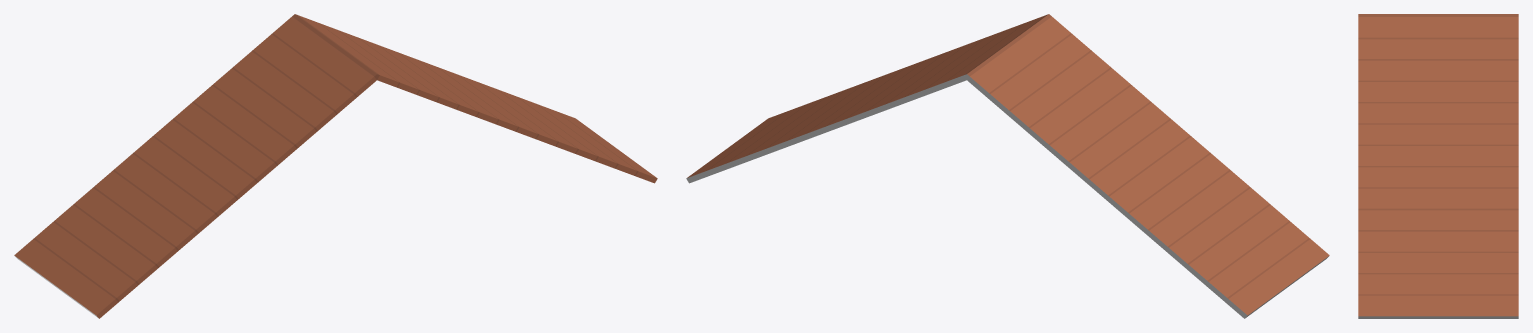
The model's file is Roof4_C5_03.fbx.
3 renders of one model, left to right at view 1: azimuth 30°, elevation 25°; view 2: azimuth 150°, elevation 25°; view 3: azimuth 270°, elevation 25°, orthographic. The views are drawn at different scales.
Visible parts, largest first — view 1: Roof4_C5_03; view 2: Roof4_C5_03; view 3: Roof4_C5_03.
Part boxes in pixels (x1,y1,x2,y2): Roof4_C5_03: [14, 14, 657, 318]; Roof4_C5_03: [686, 14, 1329, 318]; Roof4_C5_03: [1358, 14, 1518, 318].
Bounding box in the file's own units: 1105 × 333 × 280.
